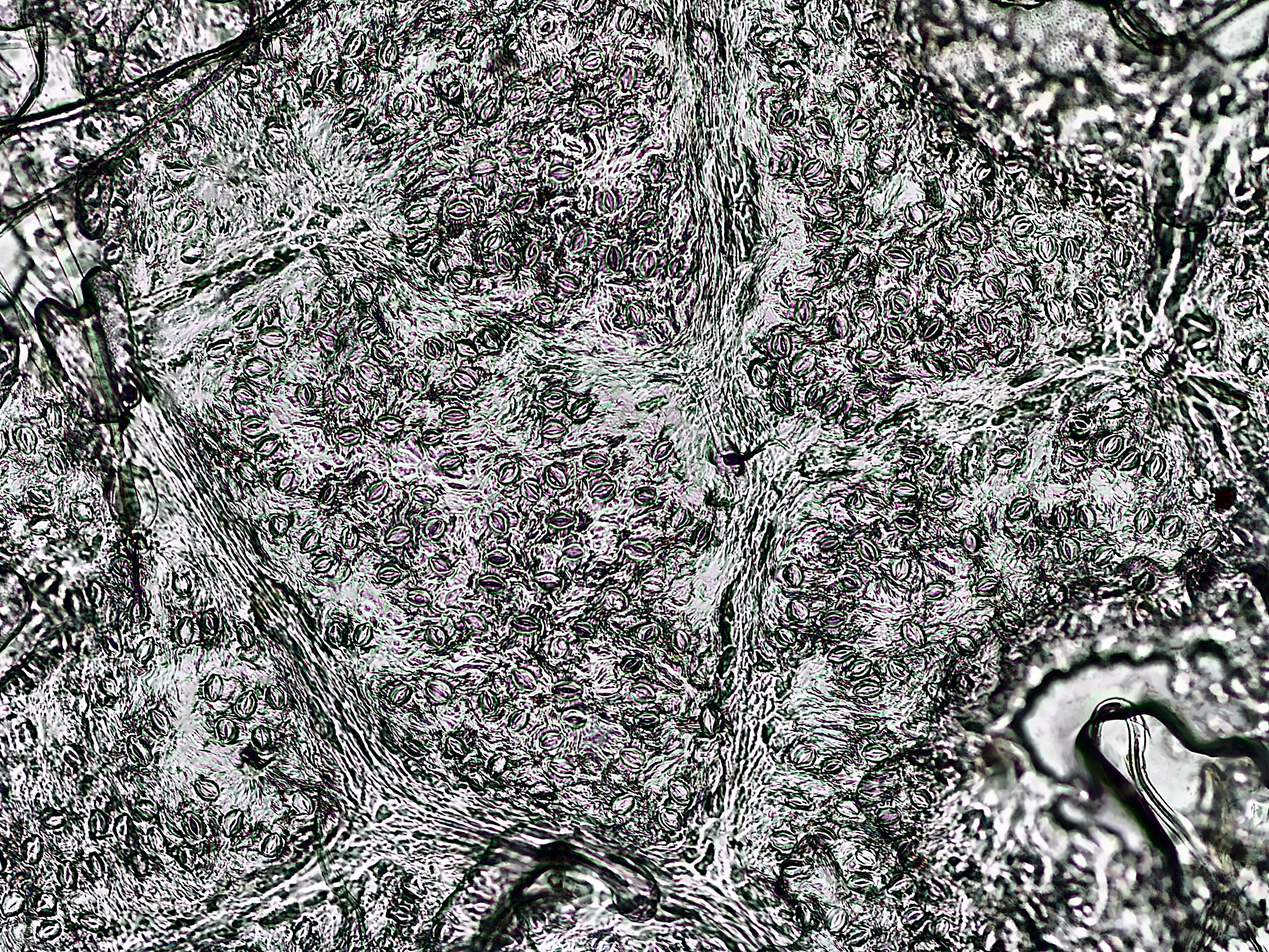stomata: (124, 592, 155, 625), (125, 733, 154, 767), (405, 481, 442, 507), (180, 810, 210, 841), (538, 415, 570, 444), (666, 776, 695, 808), (698, 700, 723, 736), (761, 824, 797, 849), (134, 227, 163, 257), (553, 268, 584, 296), (117, 54, 153, 78), (230, 459, 263, 485), (422, 678, 454, 704), (544, 504, 577, 529), (377, 35, 401, 69), (624, 681, 661, 703), (146, 709, 175, 737), (290, 789, 318, 818), (844, 651, 873, 679), (884, 242, 915, 268), (473, 571, 508, 594), (84, 850, 109, 882), (457, 611, 490, 635), (898, 901, 925, 930), (307, 60, 333, 90), (335, 105, 367, 129), (57, 857, 81, 889), (533, 568, 565, 592), (62, 591, 90, 618), (257, 832, 285, 859), (30, 887, 57, 915), (542, 463, 569, 491), (1055, 535, 1082, 563), (307, 327, 341, 349), (503, 134, 534, 158), (219, 810, 246, 837), (0, 889, 27, 916), (264, 684, 291, 711), (341, 29, 367, 57), (233, 692, 261, 718), (1072, 284, 1100, 310), (1096, 393, 1129, 415), (511, 669, 541, 693), (607, 789, 637, 813), (283, 78, 304, 112), (382, 526, 416, 547), (552, 677, 586, 698), (614, 60, 637, 91), (575, 95, 606, 118), (578, 47, 604, 74), (543, 60, 569, 87), (635, 619, 662, 645), (482, 747, 508, 774), (451, 23, 479, 48), (272, 466, 297, 494), (349, 618, 374, 646), (1114, 446, 1142, 471), (581, 444, 610, 468), (434, 112, 467, 133), (47, 446, 70, 476), (98, 631, 121, 661), (624, 536, 654, 559), (1230, 288, 1260, 311), (236, 624, 262, 650), (202, 674, 228, 700), (18, 835, 43, 862), (651, 435, 678, 460), (621, 746, 648, 771), (402, 202, 434, 223), (254, 434, 282, 458), (401, 876, 433, 897), (1197, 524, 1221, 552), (441, 404, 470, 427), (622, 303, 645, 332), (1034, 234, 1057, 263), (68, 500, 98, 522), (172, 618, 194, 648), (483, 545, 513, 567), (536, 729, 569, 749), (393, 89, 418, 115), (200, 431, 225, 457), (634, 206, 660, 231), (661, 807, 686, 833), (338, 70, 362, 97), (504, 78, 528, 105), (354, 314, 381, 338), (296, 528, 323, 552), (85, 809, 108, 837), (893, 510, 921, 533), (857, 536, 880, 564), (230, 65, 262, 85), (292, 917, 314, 946), (898, 441, 927, 463), (930, 484, 959, 506), (144, 825, 165, 855), (1146, 348, 1167, 378), (401, 740, 434, 759), (1160, 512, 1185, 537), (790, 351, 816, 375), (852, 842, 876, 868), (354, 279, 377, 306), (131, 637, 154, 664), (428, 553, 455, 576), (1068, 414, 1095, 437), (374, 563, 405, 583), (638, 250, 658, 281), (35, 918, 63, 940), (865, 745, 899, 763), (255, 326, 287, 345), (549, 760, 581, 779), (128, 854, 152, 879), (520, 239, 540, 269), (1098, 275, 1123, 299), (975, 573, 1000, 597), (178, 243, 205, 265), (620, 111, 647, 133), (631, 482, 658, 504), (954, 348, 976, 375), (28, 515, 59, 534), (293, 382, 314, 410), (405, 587, 433, 608), (214, 715, 235, 743), (617, 5, 638, 33), (1045, 296, 1066, 324), (819, 755, 847, 776), (906, 619, 927, 647), (231, 304, 260, 324), (44, 400, 64, 429), (841, 409, 870, 429), (511, 190, 535, 214), (771, 60, 803, 78), (836, 81, 860, 105), (865, 153, 897, 171), (1007, 494, 1031, 518), (318, 287, 343, 310), (358, 361, 383, 384), (15, 428, 38, 453), (423, 517, 446, 542), (505, 706, 528, 731), (844, 170, 867, 195), (390, 904, 416, 926), (387, 681, 413, 703), (811, 115, 833, 141), (771, 389, 793, 415), (893, 476, 919, 498), (259, 120, 289, 139), (112, 811, 131, 841), (854, 344, 884, 363), (471, 157, 498, 178), (363, 481, 390, 502), (754, 25, 781, 46), (1009, 214, 1036, 235), (1244, 348, 1265, 375), (242, 358, 275, 375), (814, 609, 847, 626), (780, 859, 808, 879), (481, 228, 505, 251), (373, 340, 396, 364), (606, 588, 629, 612), (792, 27, 816, 50), (921, 318, 944, 342), (791, 744, 815, 767), (170, 209, 199, 228), (240, 414, 269, 433), (692, 520, 711, 549), (489, 507, 508, 536), (231, 382, 256, 404), (569, 229, 591, 254), (570, 396, 592, 421), (1014, 191, 1039, 213), (933, 258, 958, 280), (620, 654, 646, 675), (851, 116, 872, 142), (999, 442, 1020, 468), (1063, 446, 1089, 467), (559, 708, 591, 725), (166, 122, 196, 140), (207, 339, 237, 357), (438, 452, 465, 472), (63, 746, 90, 766), (849, 871, 876, 891), (79, 913, 107, 932), (953, 634, 981, 653), (404, 369, 427, 392), (902, 202, 925, 225), (958, 222, 981, 245), (840, 570, 863, 593), (1091, 544, 1115, 566), (824, 899, 846, 923), (925, 680, 949, 702), (546, 163, 577, 180), (648, 152, 663, 187), (828, 313, 849, 338), (982, 276, 1003, 301), (1018, 271, 1039, 296), (782, 562, 803, 587), (787, 598, 808, 623), (810, 825, 835, 846), (814, 223, 843, 241), (1136, 507, 1154, 536), (420, 427, 446, 447), (772, 104, 798, 124), (40, 809, 67, 828), (673, 627, 692, 654), (887, 661, 914, 680), (423, 336, 445, 359), (532, 293, 555, 315), (426, 624, 448, 647), (924, 356, 947, 378), (432, 254, 450, 282), (549, 634, 570, 658), (812, 197, 840, 215), (1022, 530, 1040, 558), (454, 372, 479, 392), (195, 780, 220, 800), (995, 344, 1020, 364), (572, 619, 598, 638), (889, 873, 915, 892), (1147, 450, 1164, 479), (152, 185, 174, 207), (253, 728, 275, 750), (99, 677, 122, 698), (927, 876, 948, 899), (893, 832, 916, 853), (591, 478, 611, 502), (933, 917, 953, 941), (446, 200, 474, 217), (89, 581, 106, 609), (110, 555, 135, 574), (1098, 433, 1123, 452), (166, 163, 192, 181), (202, 609, 220, 635), (1131, 570, 1157, 588), (829, 645, 860, 660), (450, 267, 471, 289), (483, 327, 504, 349), (562, 541, 584, 562), (494, 250, 514, 273), (325, 623, 345, 646), (653, 79, 673, 102), (973, 312, 993, 335), (405, 237, 432, 254), (115, 154, 142, 171), (134, 799, 158, 818), (640, 571, 664, 590), (752, 361, 771, 385), (833, 800, 857, 819), (341, 525, 359, 550), (601, 187, 619, 212), (369, 125, 397, 141), (377, 416, 405, 432), (527, 783, 555, 799), (672, 504, 689, 530), (1062, 237, 1079, 263), (775, 628, 801, 645), (850, 681, 884, 694), (853, 299, 874, 320), (772, 331, 793, 352), (104, 242, 126, 262), (456, 338, 478, 358), (170, 572, 190, 594), (497, 461, 517, 483), (448, 737, 467, 760), (819, 532, 842, 551), (608, 245, 623, 274), (30, 487, 57, 503), (428, 5, 452, 23), (803, 384, 821, 408), (1080, 504, 1098, 528), (514, 614, 539, 631), (797, 300, 814, 325), (922, 581, 947, 598), (263, 34, 284, 54), (479, 99, 500, 119), (777, 152, 797, 173), (844, 487, 864, 508), (850, 719, 878, 734), (270, 515, 289, 537), (477, 689, 496, 711), (335, 427, 361, 443), (875, 807, 901, 823), (332, 381, 350, 404), (311, 554, 334, 572), (501, 37, 524, 55), (843, 247, 861, 270), (985, 192, 1003, 215), (1051, 504, 1069, 527), (57, 153, 84, 168), (1115, 238, 1128, 269), (803, 158, 823, 178), (541, 386, 560, 407), (522, 480, 540, 502), (818, 397, 840, 415), (846, 926, 874, 940), (1001, 614, 1027, 629), (666, 254, 682, 278), (853, 381, 877, 397), (891, 557, 910, 577), (786, 796, 811, 811), (534, 16, 556, 33), (914, 787, 930, 810), (963, 526, 978, 550), (635, 712, 660, 726), (890, 292, 908, 311), (886, 320, 904, 339), (857, 206, 872, 228), (469, 773, 487, 791), (577, 0, 596, 17), (320, 483, 334, 505), (1002, 157, 1024, 171), (814, 260, 831, 278), (447, 80, 463, 99), (975, 163, 995, 178), (857, 42, 880, 55), (831, 19, 848, 35)
